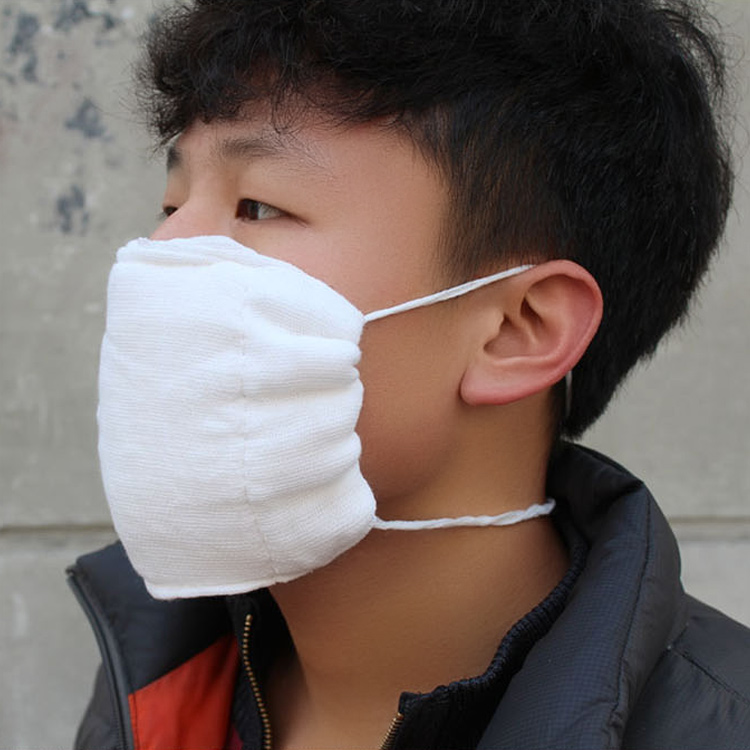face_mask: (102, 62, 442, 538)
